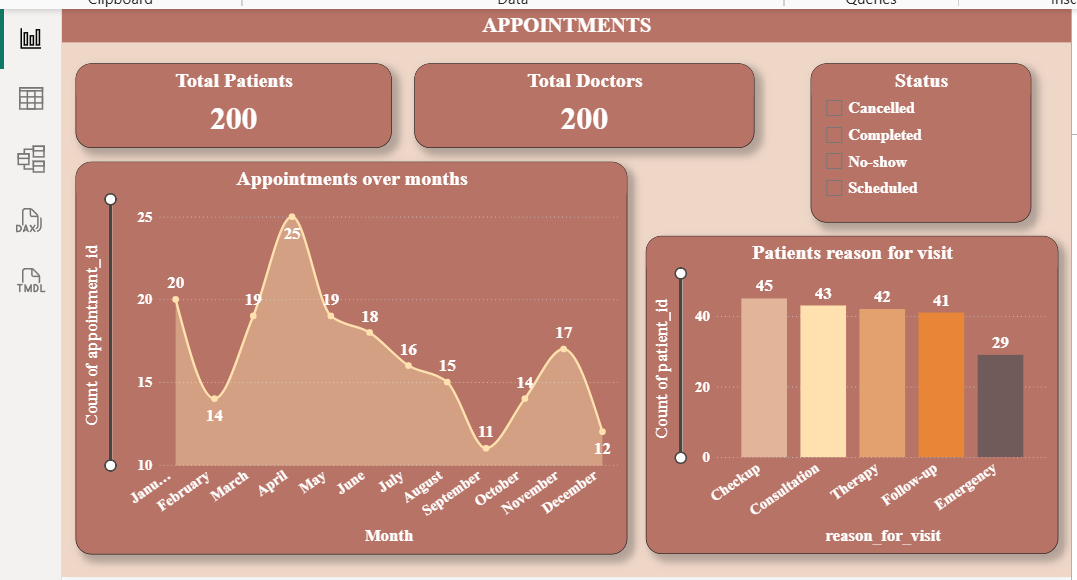

The dashboard page shown, as its layout file describes it:
{"tool":"powerbi","page":{"name":"Page 1","canvas":[1280,720],"ordinal":0},"visuals":[{"type":"card","title":"Total Patients","fields":{"Values":["CountNonNull(Appointments.patient_id)"]},"box":[17.8,70,400.7,107],"z":0},{"type":"textbox","box":[0,0,1280.3,42.5],"z":1000},{"type":"card","title":"Total Doctors","fields":{"Values":["CountNonNull(Appointments.doctor_id)"]},"box":[447.3,70,430.9,107],"z":2000},{"type":"slicer","title":"Status","fields":{"Values":["Appointments.status"]},"box":[949.6,70,279.9,201.7],"z":3000},{"type":"lineChart","title":"Appointments over months","fields":{"Category":["Appointments.appointment_date.Variation.Date Hierarchy.Month"],"Y":["CountNonNull(Appointments.appointment_id)"]},"box":[17.8,193.5,699.8,498.1],"z":4000},{"type":"columnChart","title":"Patients reason for visit","fields":{"Category":["Appointments.reason_for_visit"],"Y":["CountNonNull(Appointments.patient_id)"]},"box":[739.6,288.2,522.8,403.4],"z":5000}]}

Visuals, with their boxes in screenshot pixels (x1, y1, x2, y2):
"Total Patients" card: {"left": 70, "top": 61, "right": 389, "bottom": 146}
textbox: {"left": 56, "top": 6, "right": 1074, "bottom": 39}
"Total Doctors" card: {"left": 412, "top": 61, "right": 754, "bottom": 146}
"Status" slicer: {"left": 811, "top": 61, "right": 1034, "bottom": 222}
"Appointments over months" lineChart: {"left": 70, "top": 159, "right": 627, "bottom": 556}
"Patients reason for visit" columnChart: {"left": 644, "top": 235, "right": 1060, "bottom": 556}
